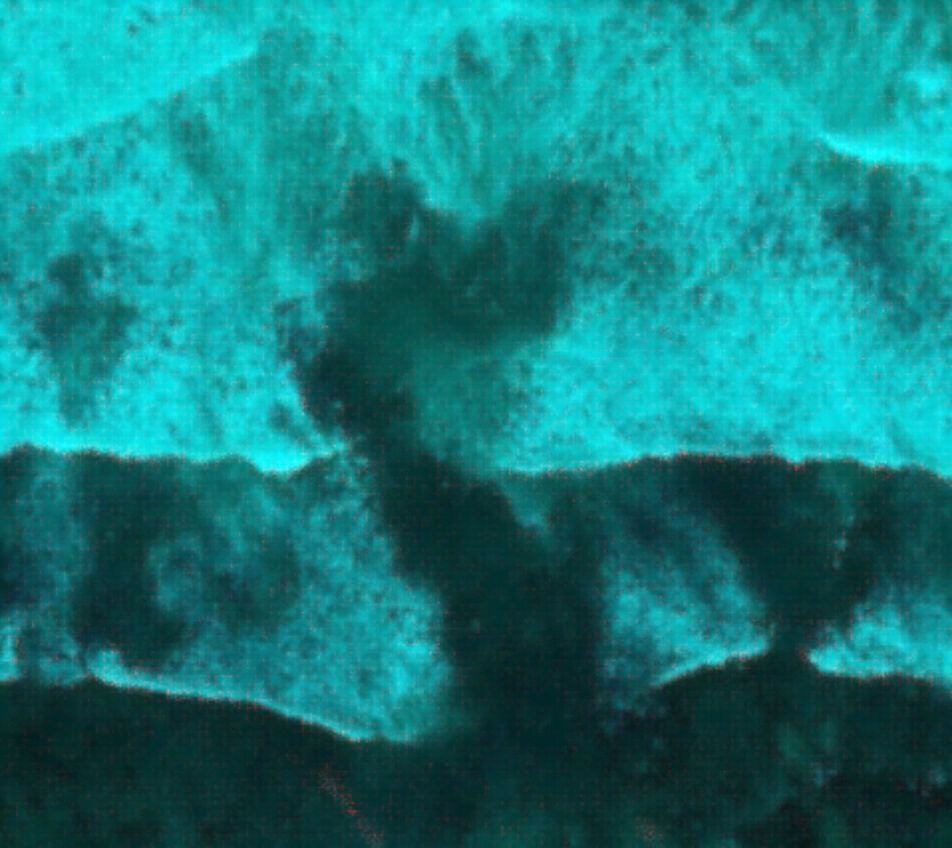rip_current: (248, 105, 685, 736)
